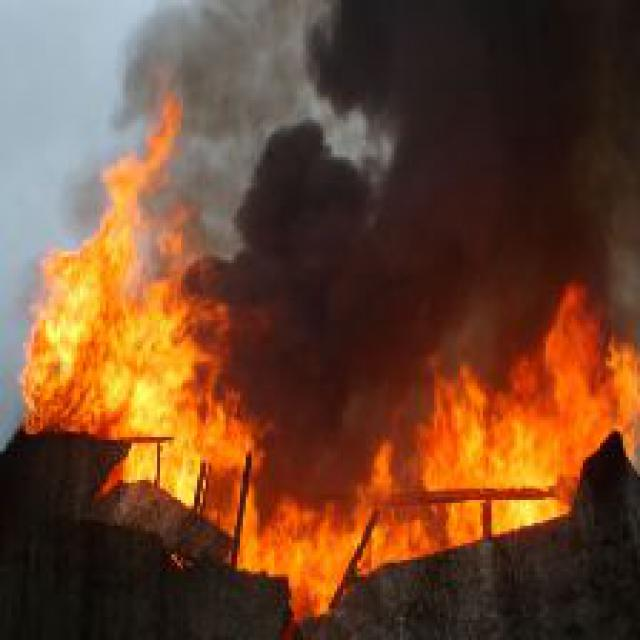fire: (17, 60, 637, 617)
